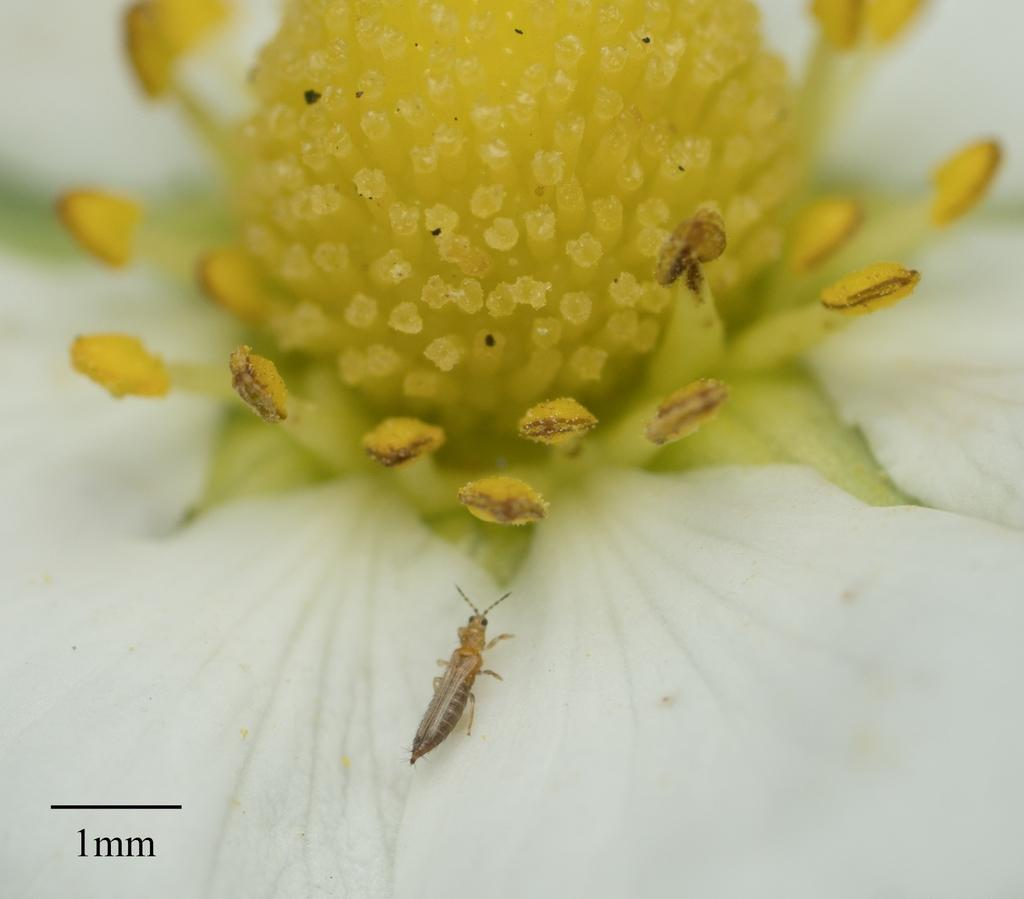tiny_pests: (368, 546, 549, 789)
